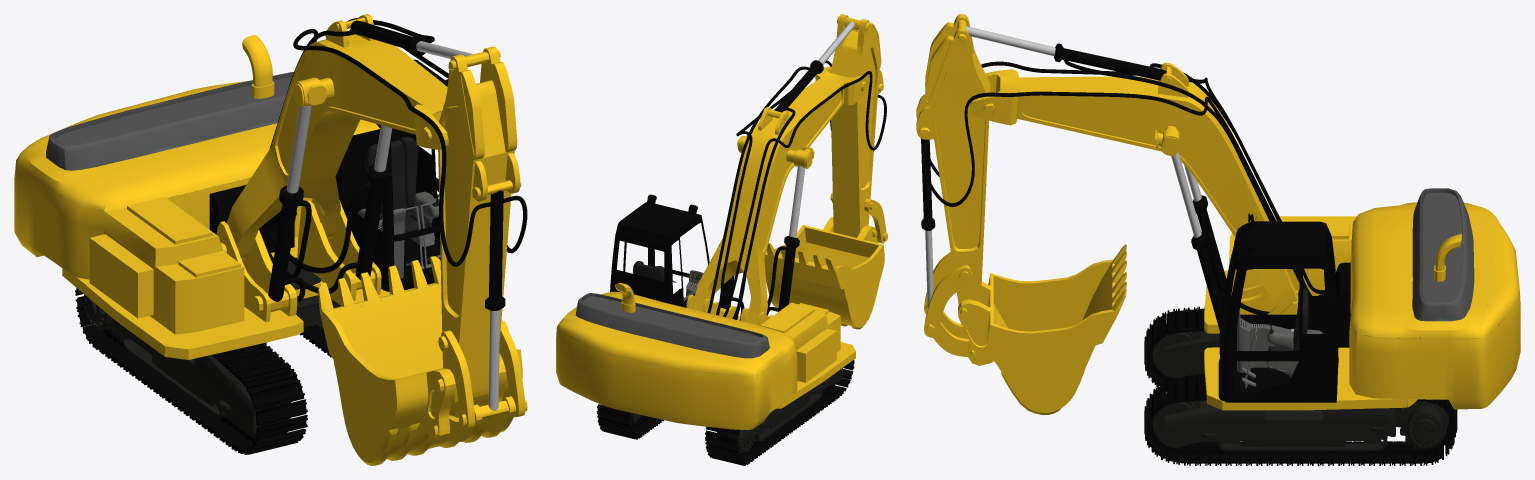
The picture shows the model from 3 angles, left to right: view 1: azimuth 30°, elevation 25°; view 2: azimuth 150°, elevation 25°; view 3: azimuth 270°, elevation 25°; orthographic projection. The views are drawn at different scales.
Visible parts, largest first — view 1: Object_3, Object_5, Object_7, Object_4, Object_2, Object_6; view 2: Object_3, Object_5, Object_2, Object_7, Object_4, Object_6; view 3: Object_3, Object_2, Object_4, Object_5, Object_7, Object_6.
Boxes of the visible parts, <box> form: Object_3: <box>14,14,527,465</box>; Object_5: <box>209,18,527,410</box>; Object_7: <box>75,288,331,454</box>; Object_4: <box>83,257,340,439</box>; Object_2: <box>335,59,448,291</box>; Object_6: <box>357,136,440,278</box>; Object_3: <box>556,14,887,429</box>; Object_5: <box>707,21,886,320</box>; Object_2: <box>610,194,709,307</box>; Object_7: <box>596,360,854,465</box>; Object_4: <box>629,368,842,452</box>; Object_6: <box>633,261,703,300</box>; Object_3: <box>916,14,1520,414</box>; Object_2: <box>1218,213,1338,402</box>; Object_4: <box>1152,331,1448,451</box>; Object_5: <box>921,26,1350,347</box>; Object_7: <box>1144,306,1457,465</box>; Object_6: <box>1237,288,1322,388</box>.
Size of the model in its own units: 7.65 by 10.83 by 14.89.
Materials: 6 (6 with a texture image).
